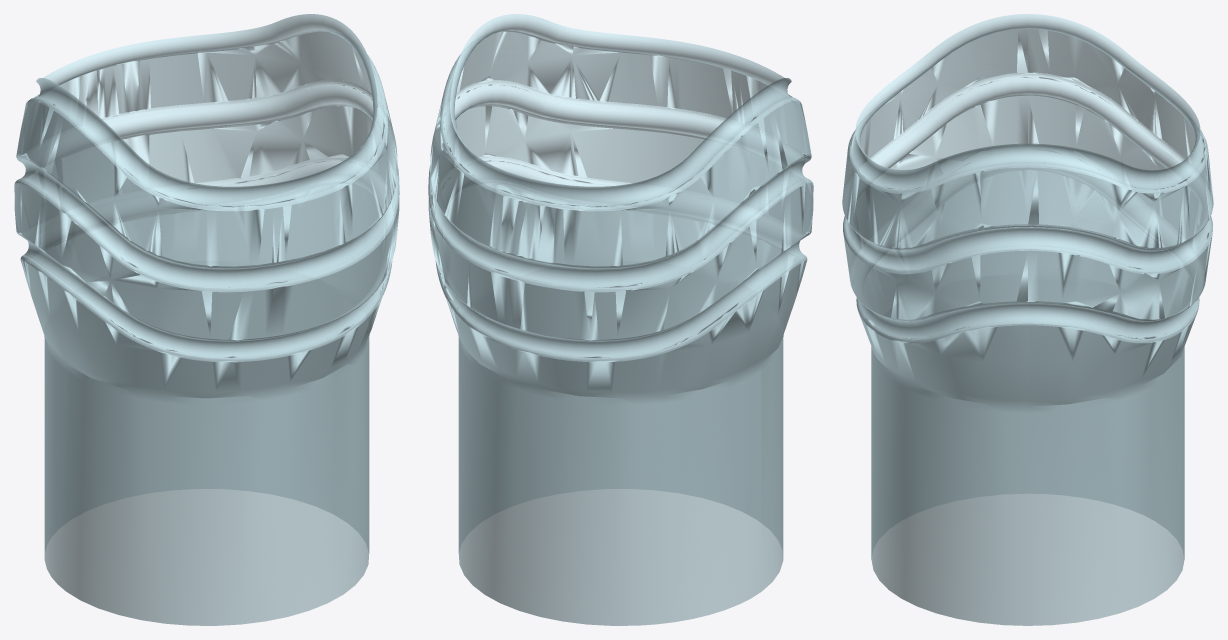
The model's file is body_3.obj.
The picture shows the model from 3 angles, left to right: view 1: azimuth 30°, elevation 25°; view 2: azimuth 150°, elevation 25°; view 3: azimuth 270°, elevation 25°; orthographic projection. The views are drawn at different scales.
Parts seen in each view (by area): view 1: mesh2/mesh2-geometry#mesh2-geometry; view 2: mesh2/mesh2-geometry#mesh2-geometry; view 3: mesh2/mesh2-geometry#mesh2-geometry.
Boxes of the visible parts, left/top/right/bottom form: mesh2/mesh2-geometry#mesh2-geometry: left=14, top=14, right=399, bottom=625; mesh2/mesh2-geometry#mesh2-geometry: left=428, top=14, right=813, bottom=625; mesh2/mesh2-geometry#mesh2-geometry: left=842, top=14, right=1213, bottom=625.
Bounding box in the file's own units: 0.5144 × 0.7363 × 0.515.
1 material, 1 textured.
